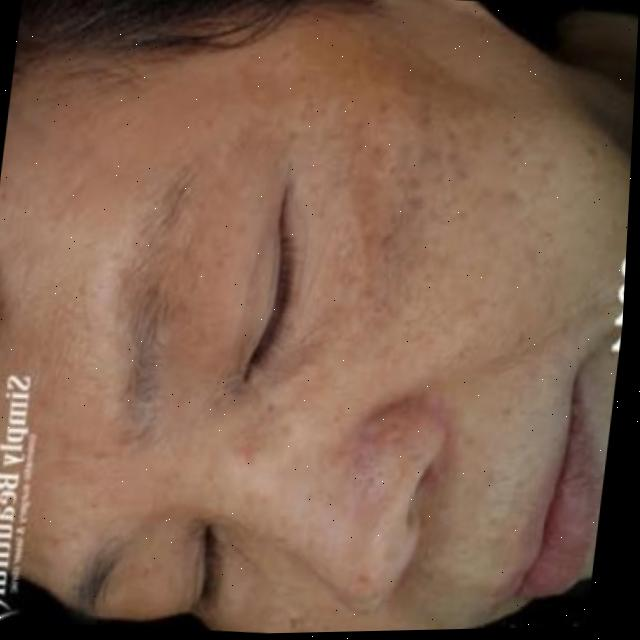Melasma: (321, 156, 466, 329), (344, 425, 410, 497), (245, 596, 323, 634)
